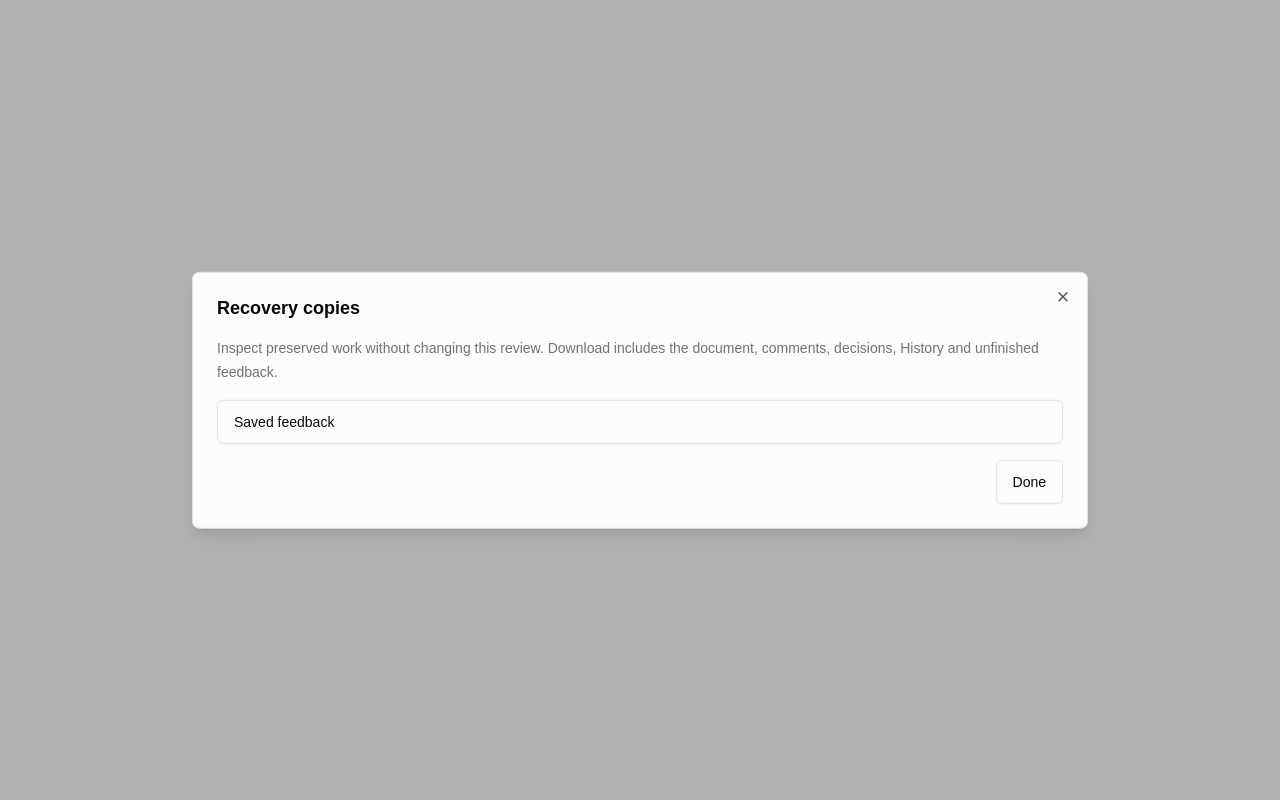
Test: restores only unfinished feedback after an explicit user action
Click the button "Saved feedback" at {"x": 284, "y": 421}, box [217,399,1063,443]
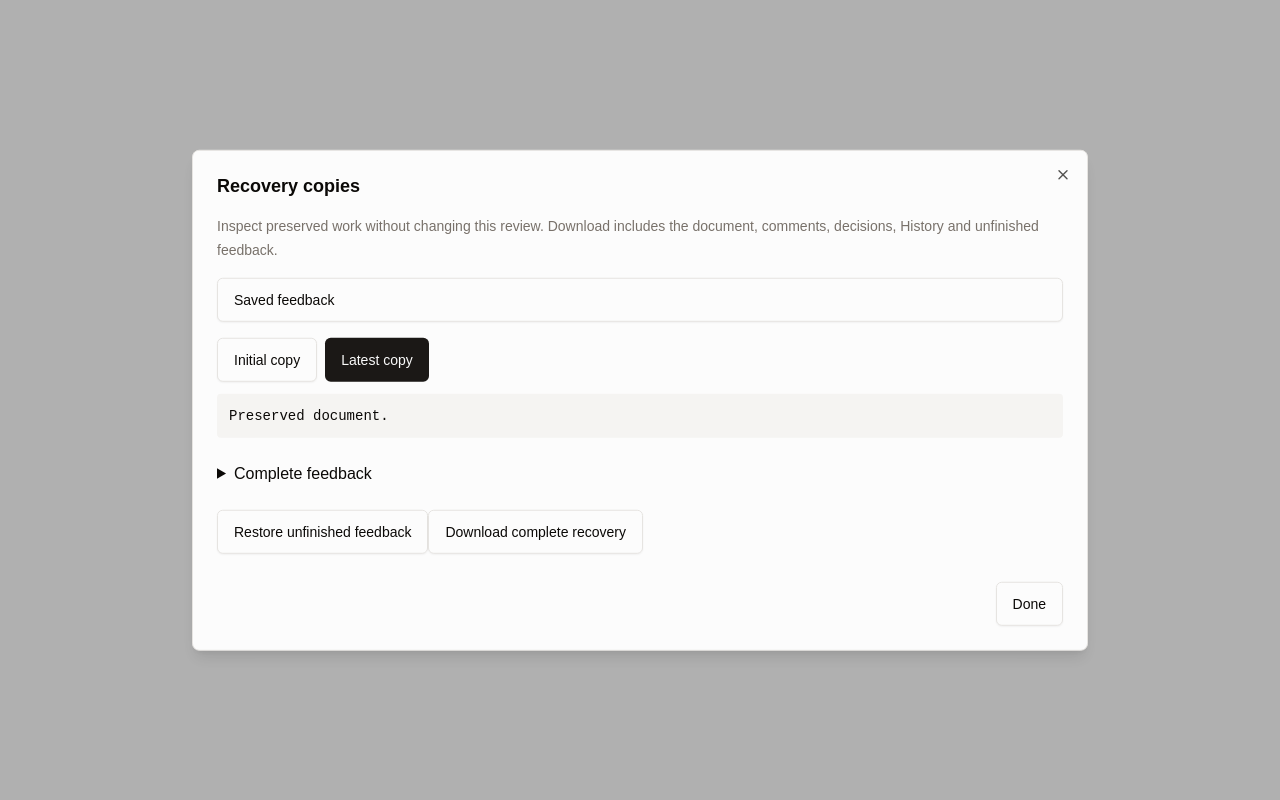
Now the button with test id "revision-recovery-restore-feedback" is shown
Click the button with test id "revision-recovery-restore-feedback" at {"x": 323, "y": 531}, box [217,509,428,553]
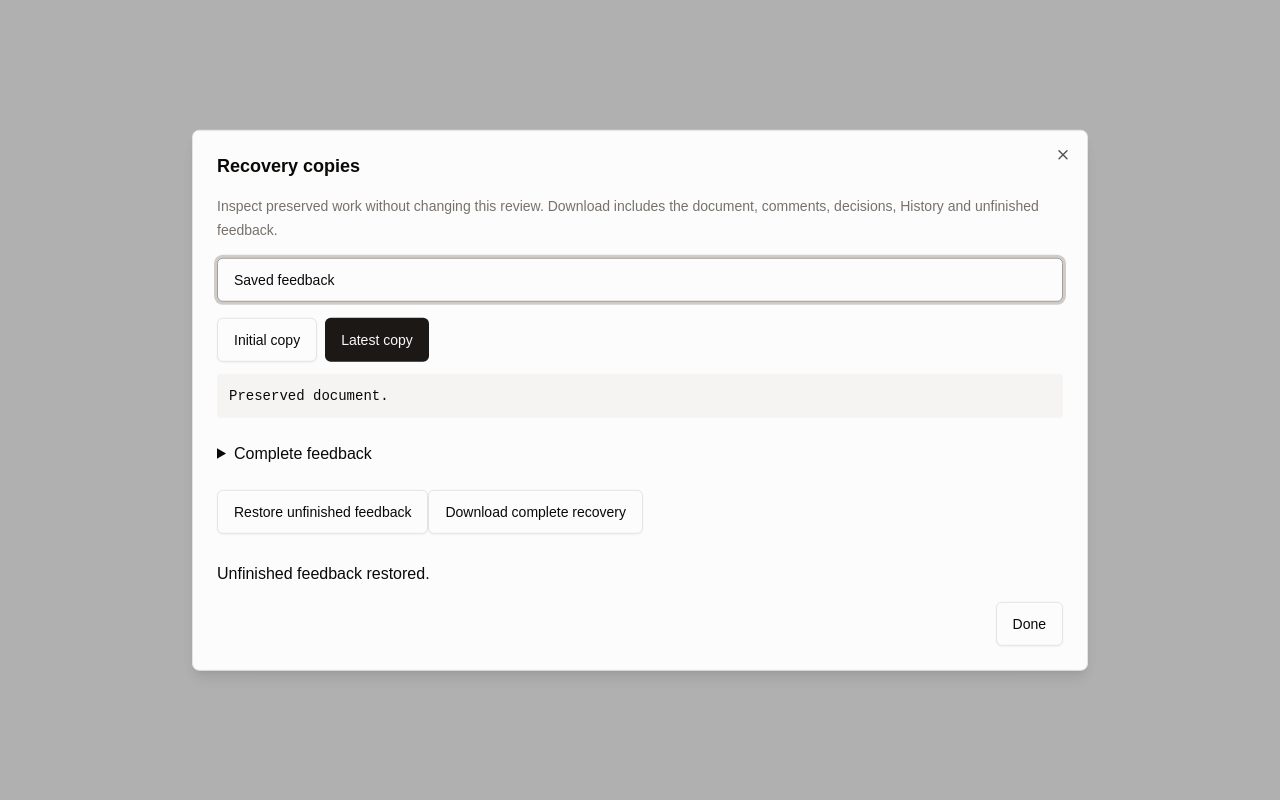
Now the text with test id "revision-recovery-source" reads "Preserved document.", box [229,387,389,403]
Now the text "Unfinished feedback restored." is shown, box [217,564,430,581]
